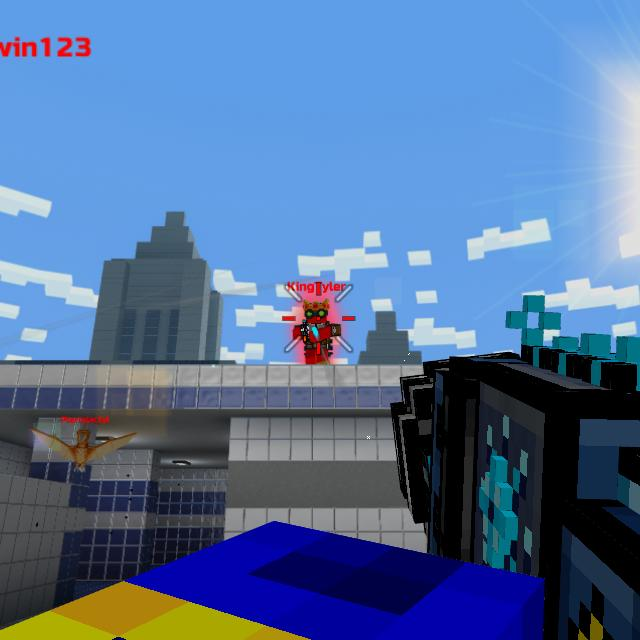Enemy: (292, 298, 341, 365)
